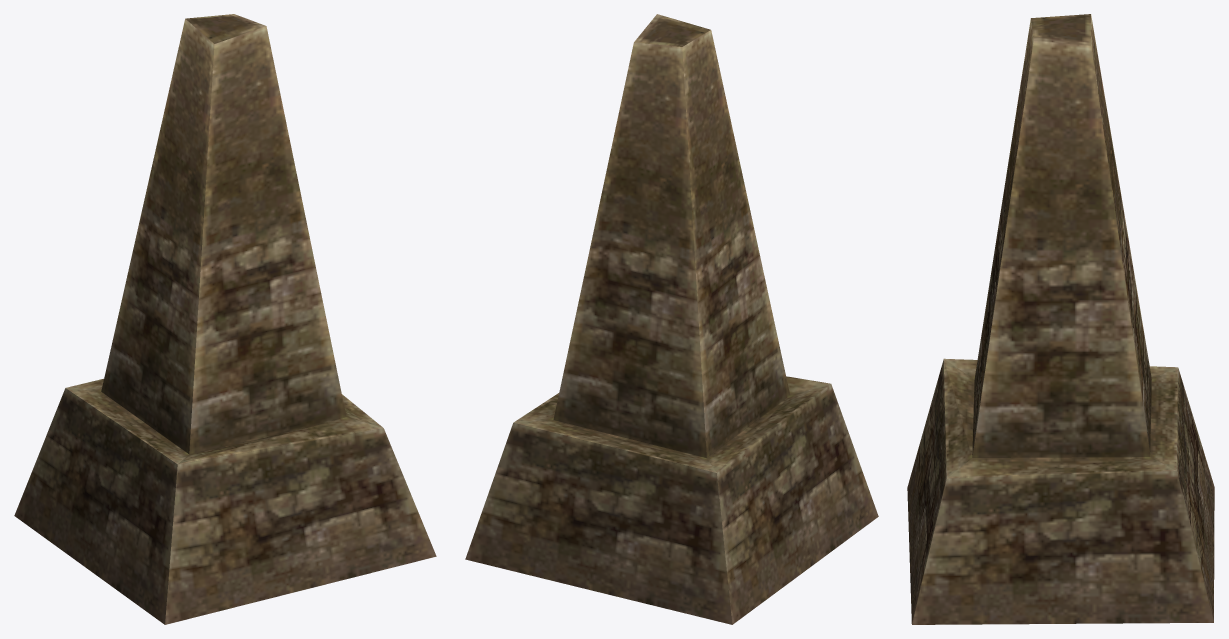
3 views of the same model, side by side, from view 1: azimuth 30°, elevation 25°; view 2: azimuth 150°, elevation 25°; view 3: azimuth 270°, elevation 25° (orthographic). The views are drawn at different scales.
Visible parts, largest first — view 1: OM_09_sn_T04obj01A; view 2: OM_09_sn_T04obj01A; view 3: OM_09_sn_T04obj01A.
Part boxes in pixels (<box>): OM_09_sn_T04obj01A: <box>14,14,436,624</box>; OM_09_sn_T04obj01A: <box>465,14,878,624</box>; OM_09_sn_T04obj01A: <box>907,14,1214,624</box>.
Bounding box in the file's own units: 5.76 × 10.28 × 5.42.
1 material, 1 textured.
